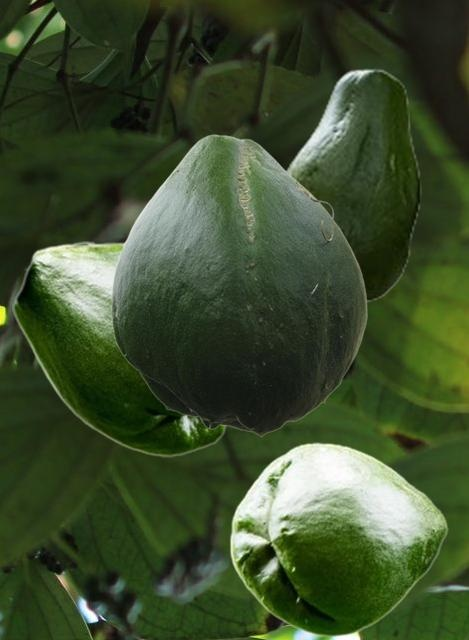sayote: (111, 134, 366, 436), (12, 241, 228, 456), (229, 442, 447, 636), (284, 68, 420, 302)
